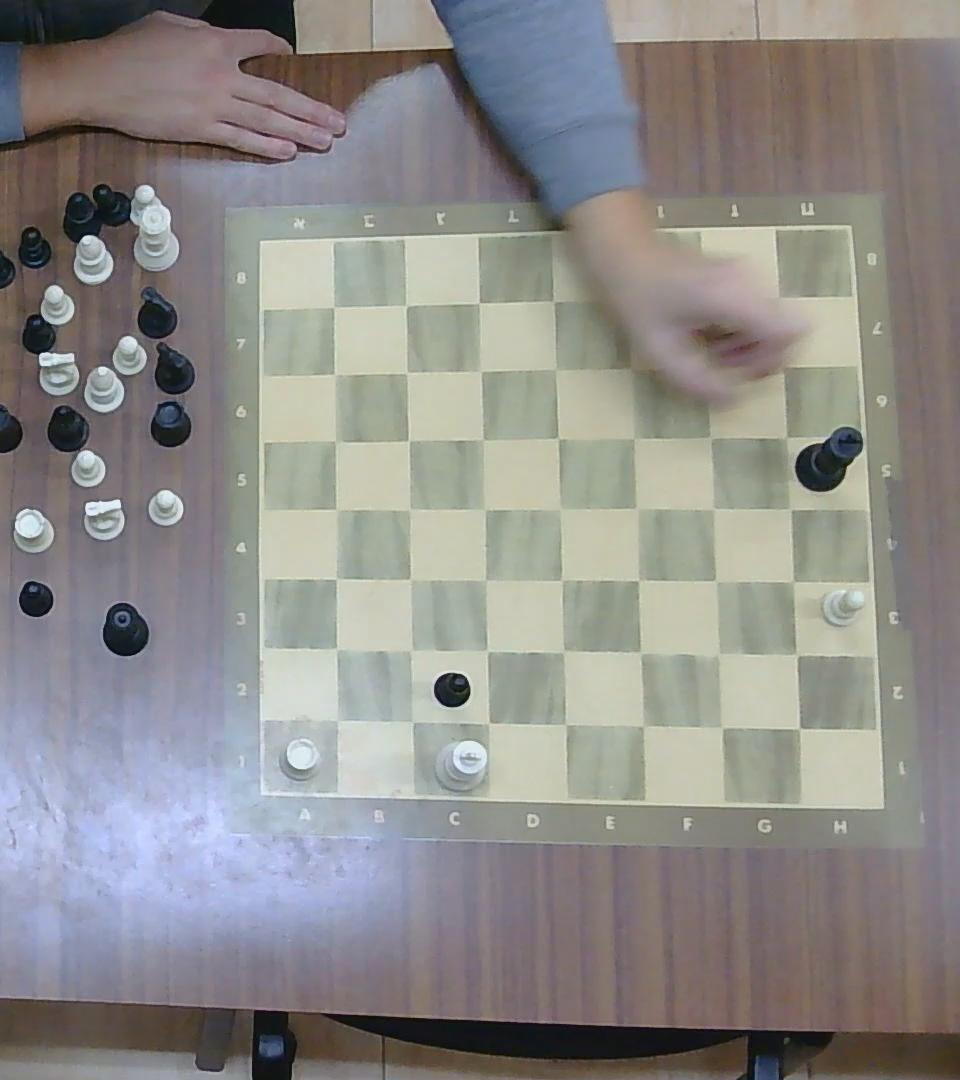xcorner: (548, 706, 580, 738), (702, 638, 734, 670), (705, 710, 736, 743), (626, 709, 657, 741), (471, 706, 503, 737), (690, 281, 722, 312), (320, 703, 351, 734), (625, 635, 655, 667), (783, 711, 813, 743), (622, 563, 652, 594), (471, 636, 502, 666), (396, 705, 427, 735), (764, 280, 795, 310), (548, 636, 578, 666), (700, 565, 730, 595), (547, 565, 577, 595), (781, 639, 811, 669), (465, 286, 494, 317), (617, 352, 646, 383), (539, 285, 568, 315), (698, 493, 728, 522), (470, 564, 500, 593), (395, 635, 425, 664), (319, 290, 348, 320), (470, 493, 499, 522), (545, 493, 574, 522), (392, 289, 421, 318), (622, 493, 651, 522), (768, 352, 798, 380), (606, 283, 633, 314), (776, 495, 805, 523), (321, 635, 350, 663), (395, 564, 423, 593), (321, 564, 350, 592), (469, 424, 497, 453), (543, 353, 571, 382), (691, 351, 719, 380), (395, 495, 423, 523), (467, 355, 495, 383), (393, 357, 421, 385), (323, 495, 351, 523), (777, 568, 806, 595), (621, 422, 648, 451), (321, 426, 350, 453), (320, 359, 349, 386), (545, 423, 573, 450), (395, 425, 423, 452), (772, 423, 800, 450), (697, 423, 725, 450)
